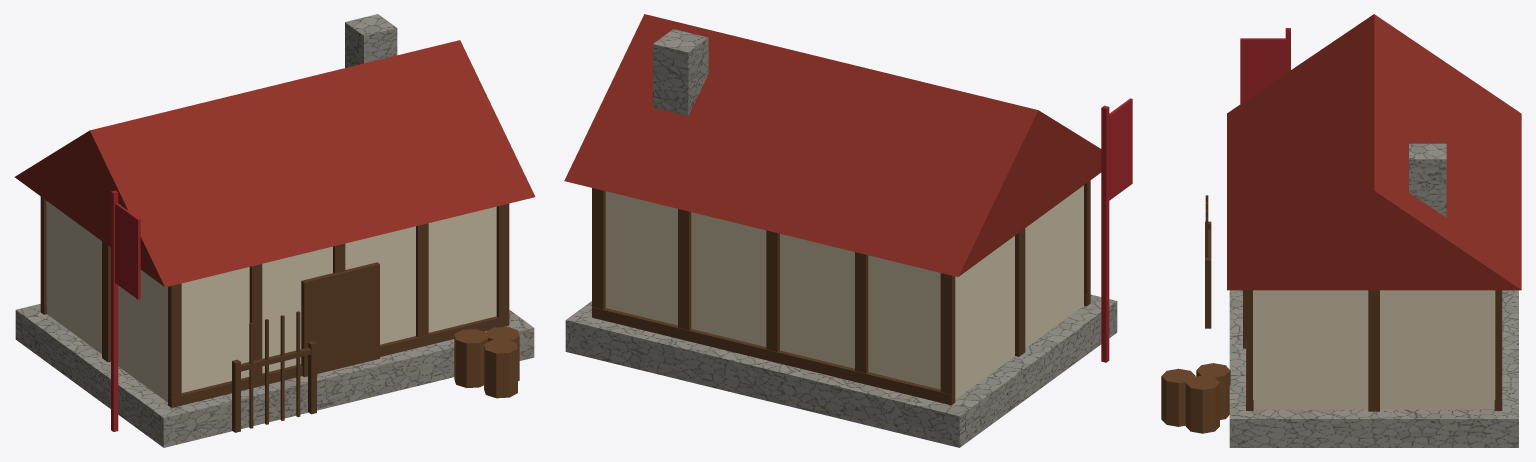
Rendered from Barracks.glb.
3 renders of one model, left to right at view 1: azimuth 30°, elevation 25°; view 2: azimuth 150°, elevation 25°; view 3: azimuth 270°, elevation 25°, orthographic. The views are drawn at different scales.
Parts seen in each view (by area): view 1: BarracksRoof, BarracksWalls, BarracksTimber, BarracksStone, Barrels, BarracksBanner; view 2: BarracksRoof, BarracksWalls, BarracksStone, BarracksTimber, BarracksBanner; view 3: BarracksRoof, BarracksWalls, BarracksStone, BarracksTimber, Barrels, BarracksBanner.
Boxes of the visible parts, x1,y1,x2,y2 form: BarracksRoof: [14, 40, 535, 287]; BarracksWalls: [46, 201, 496, 402]; BarracksTimber: [40, 196, 509, 432]; BarracksStone: [15, 14, 534, 447]; Barrels: [454, 326, 519, 398]; BarracksBanner: [111, 190, 140, 431]; BarracksRoof: [564, 14, 1101, 276]; BarracksWalls: [605, 185, 1083, 399]; BarracksStone: [565, 29, 1117, 447]; BarracksTimber: [592, 180, 1090, 405]; BarracksBanner: [1101, 98, 1132, 362]; BarracksRoof: [1227, 14, 1521, 290]; BarracksWalls: [1253, 290, 1495, 409]; BarracksStone: [1229, 143, 1518, 447]; BarracksTimber: [1205, 195, 1502, 411]; Barrels: [1161, 363, 1230, 433]; BarracksBanner: [1240, 28, 1290, 103].
Size of the model in its own units: 8.25 by 5.5 by 6.72.
6 materials, 1 textured.
